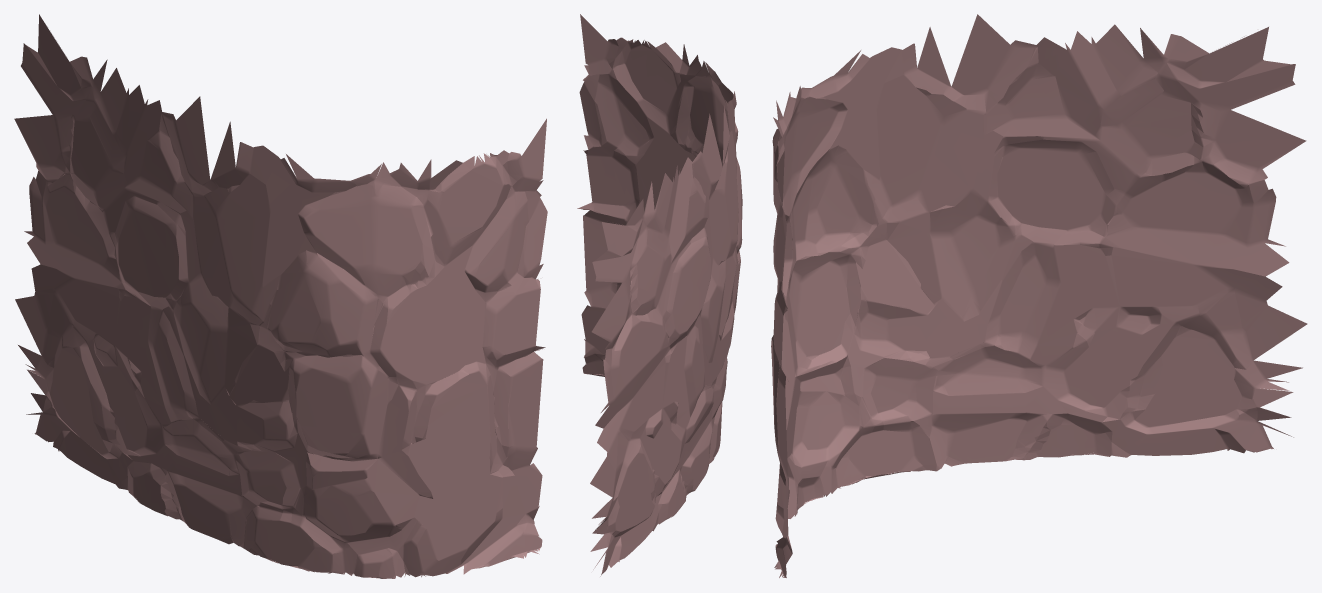
File: plateau.fbx_Rock_Plateau_038LODs.fbx
The picture shows the model from 3 angles, left to right: view 1: azimuth 30°, elevation 25°; view 2: azimuth 150°, elevation 25°; view 3: azimuth 270°, elevation 25°; orthographic projection. The views are drawn at different scales.
Parts seen in each view (by area): view 1: Rock Plateau.038_LOD0; view 2: Rock Plateau.038_LOD0; view 3: Rock Plateau.038_LOD0.
Boxes of the visible parts, box(x1,y1,x2,y2) form: Rock Plateau.038_LOD0: box(14, 14, 547, 578); Rock Plateau.038_LOD0: box(577, 14, 742, 576); Rock Plateau.038_LOD0: box(771, 14, 1307, 577).
Size of what is drawn, in the model's own units: 2778 by 4282 by 4656.
